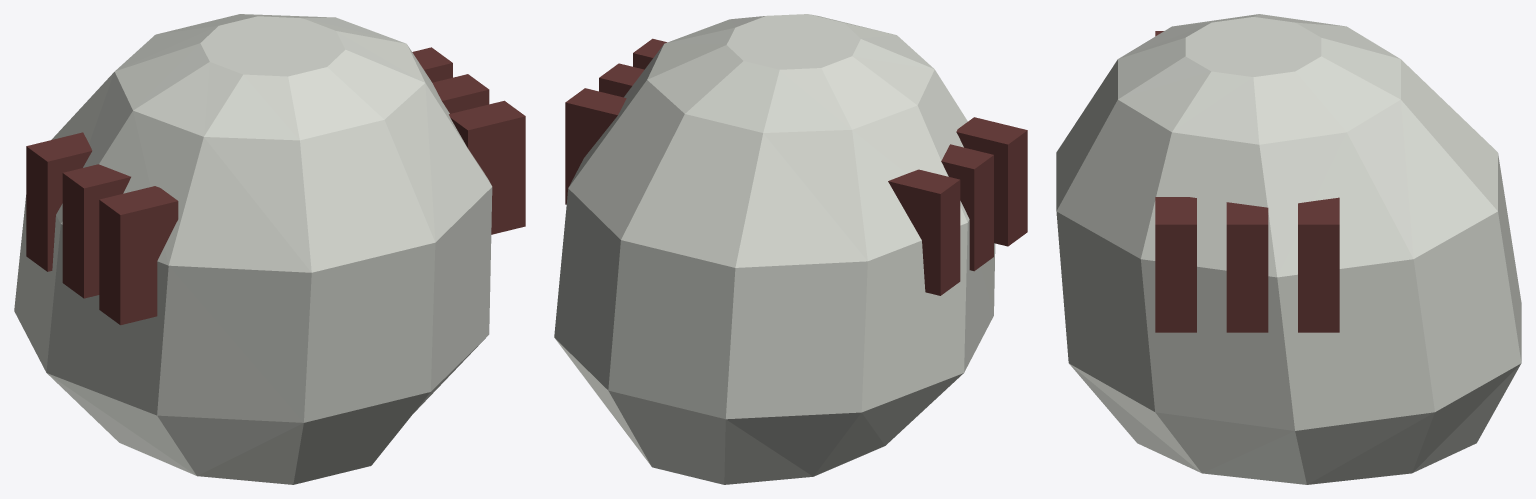
File: scorcher.obj
3 views of the same model, side by side, from view 1: azimuth 30°, elevation 25°; view 2: azimuth 150°, elevation 25°; view 3: azimuth 270°, elevation 25° (orthographic). The views are drawn at different scales.
Visible parts, largest first — view 1: scorcher; view 2: scorcher; view 3: scorcher.
Part boxes in pixels (bbox=[...]): scorcher: bbox=[14, 14, 525, 484]; scorcher: bbox=[554, 14, 1027, 484]; scorcher: bbox=[1056, 14, 1521, 484].
Bounding box in the file's own units: 0.78 × 0.7 × 0.7813.
